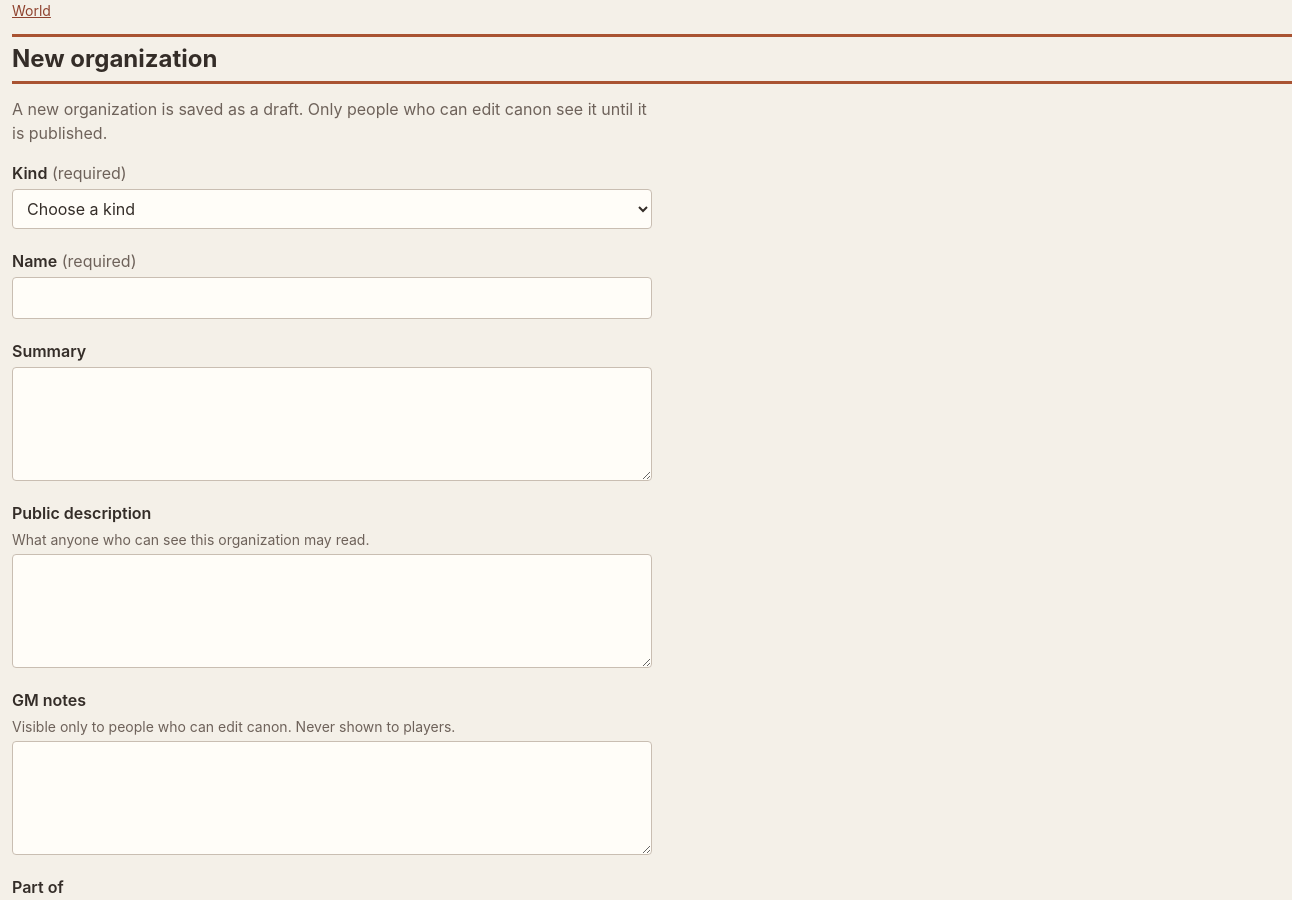
Test: CreateOrganizationPage › lists the server's kinds and renders each kind's own fields
The width and height of the screenshot is (1292, 900).
Select "Business" in the dropdown labelled "Kind (required)" at (332, 209), box [12,189,652,229]
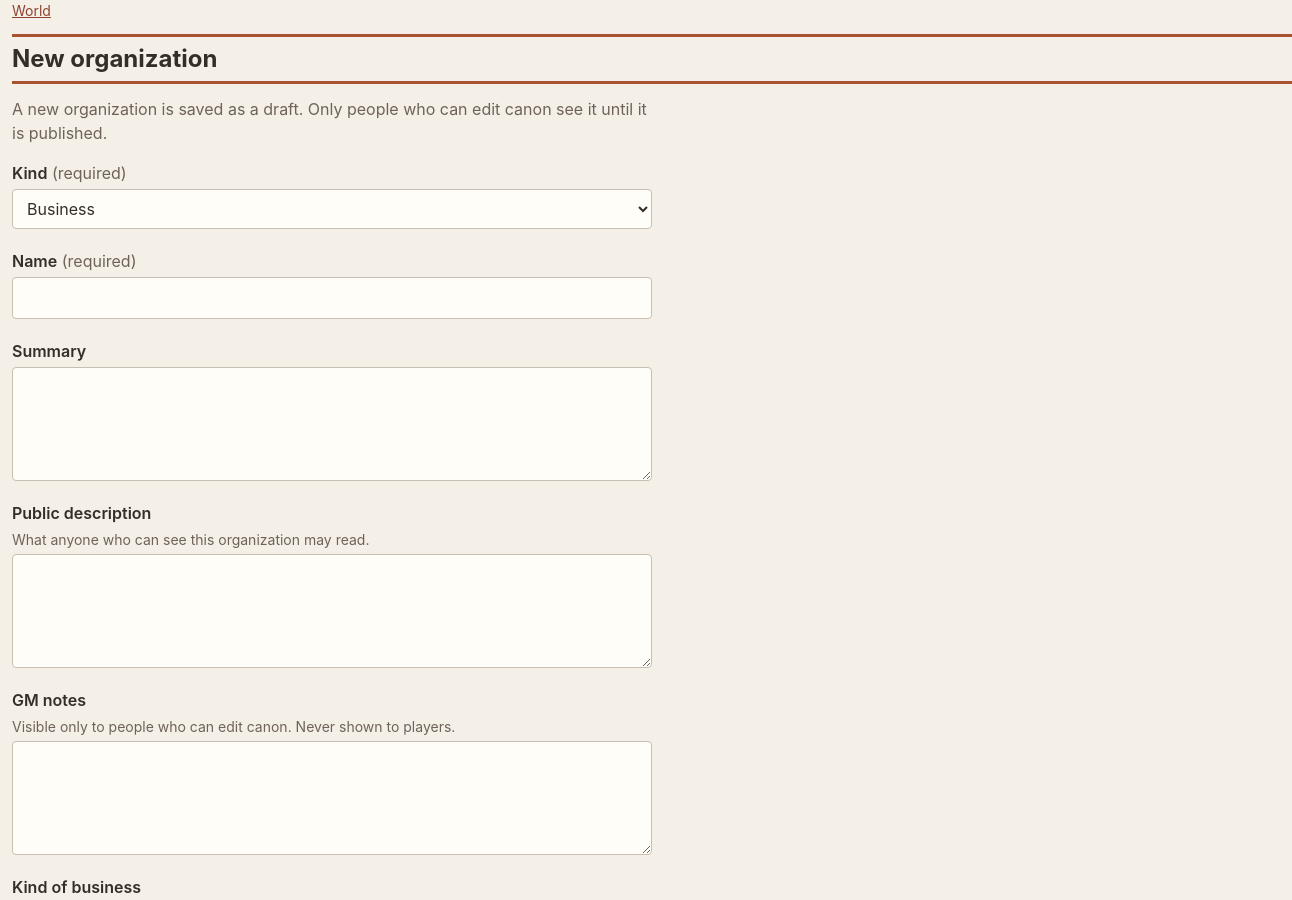
Expected: the dropdown labelled "Religion" is not shown
Select "Religious organization" in the dropdown labelled "Kind (required)" at (332, 209), box [12,189,652,229]
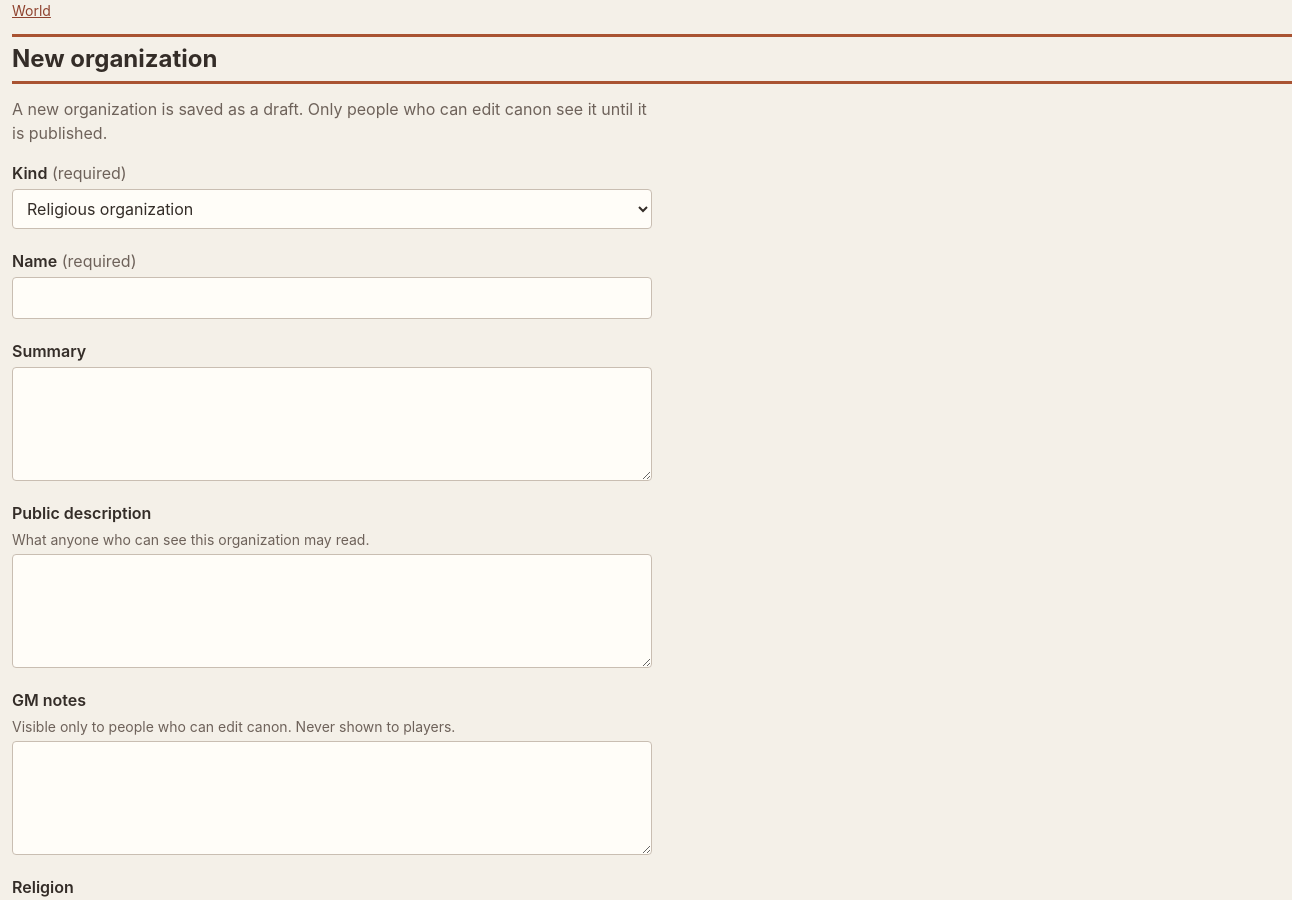
Result: the label "Kind of business" is gone
Select "Organization" in the dropdown labelled "Kind (required)" at (332, 209), box [12,189,652,229]
(page scrolled)
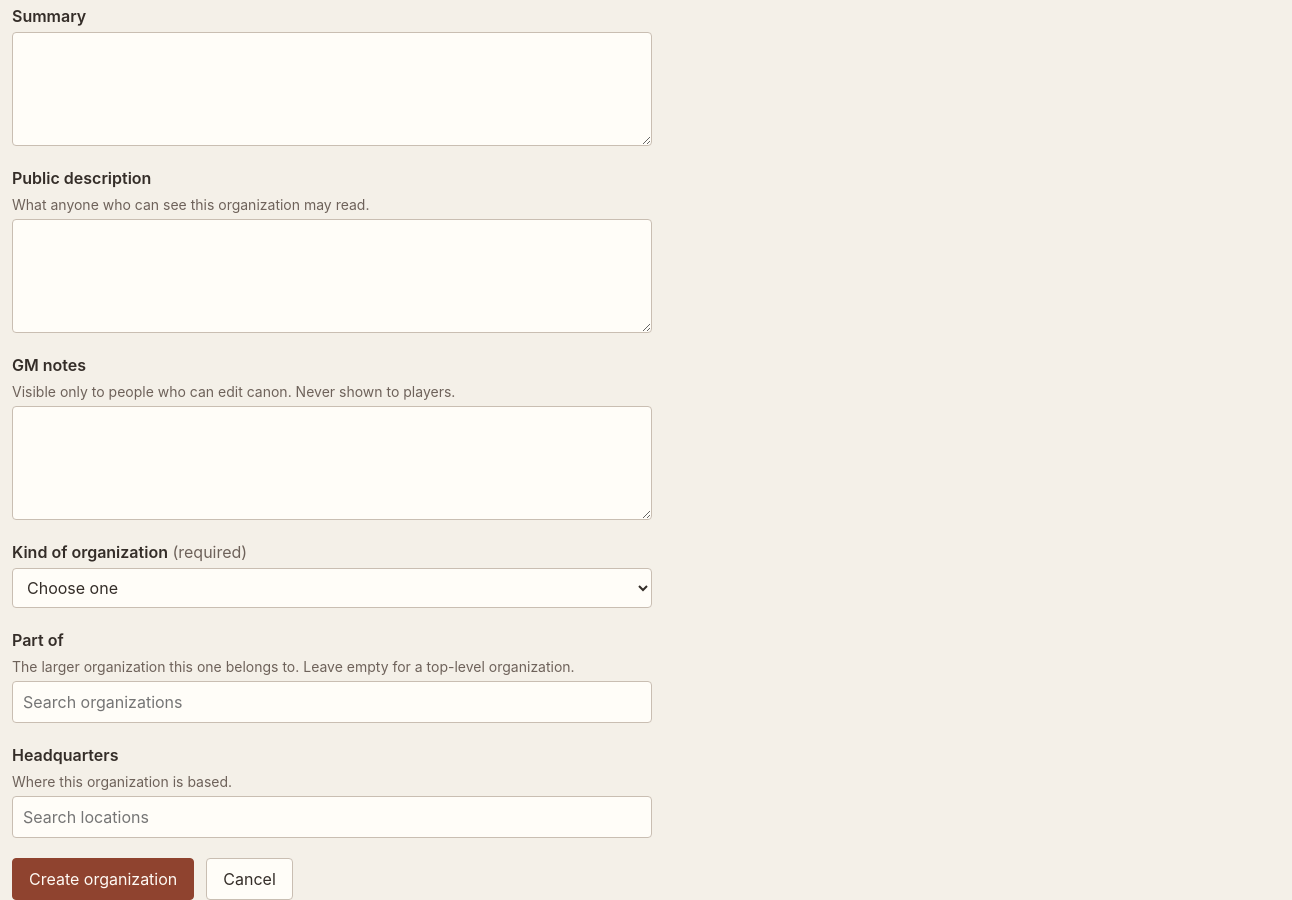
Result: the dropdown labelled "Kind of organization (required)" is shown at [12,568,652,608]
